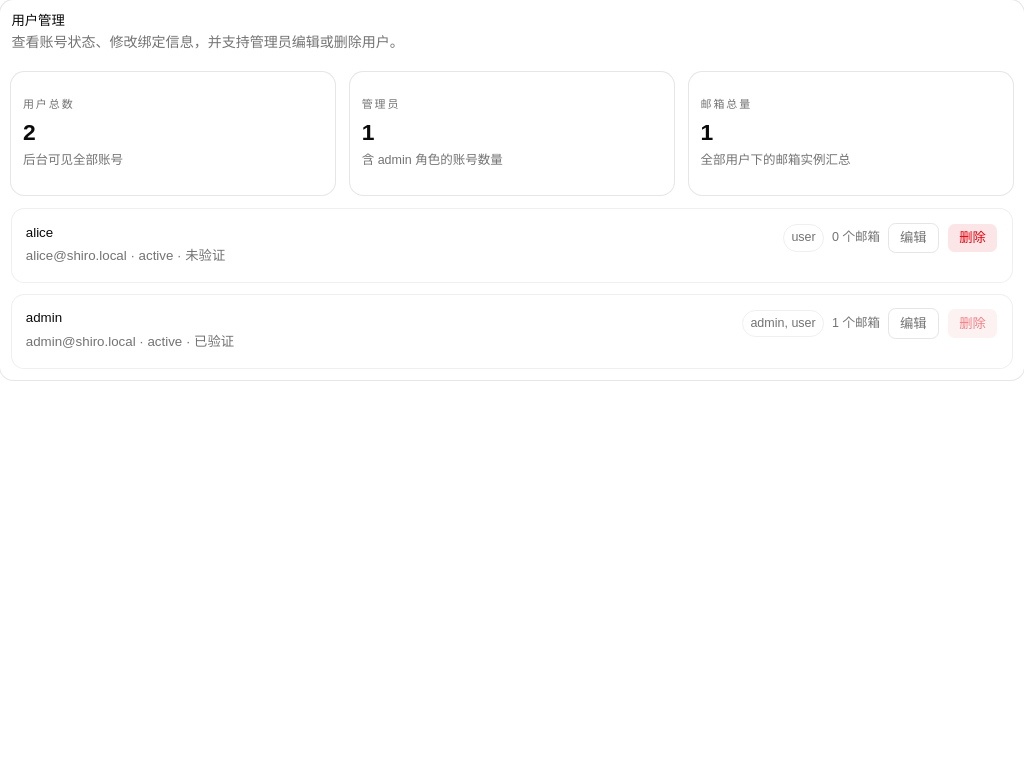
Test case: AdminUsersPage › shows delete failure feedback when backend rejects deletion
Click the button "删除" in the row of "alice@shiro.local · active · 未验证": (972, 238) top-left (947, 223), bottom-right (998, 253)
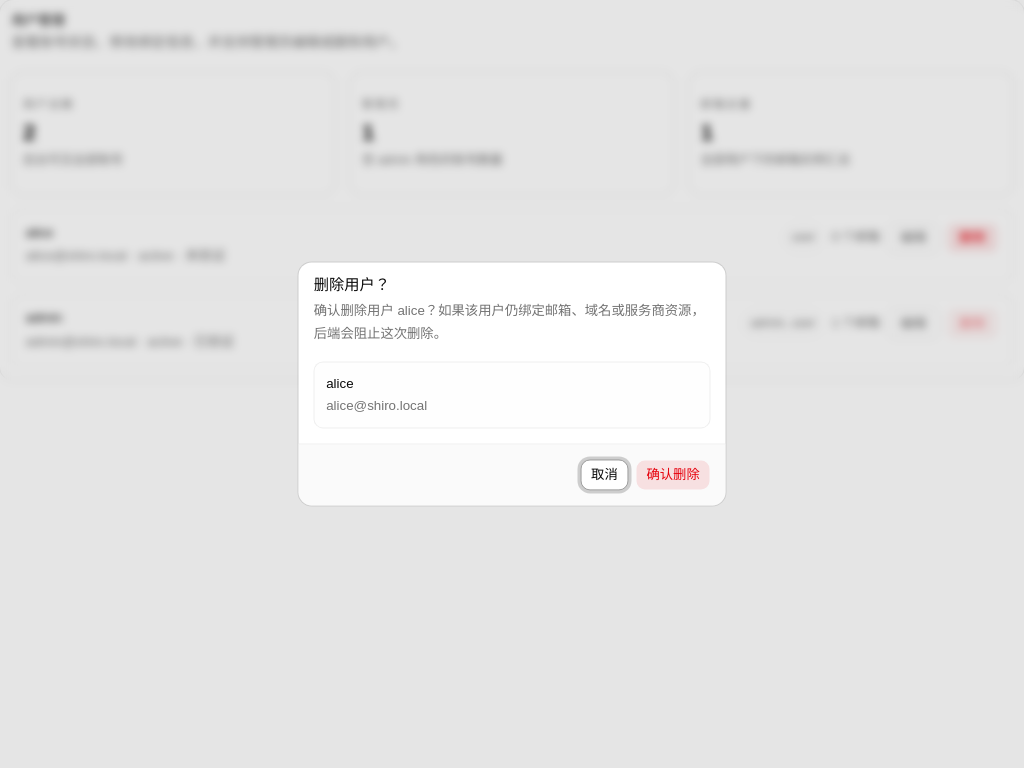
Click the button "确认删除": (673, 475) top-left (636, 460), bottom-right (710, 490)
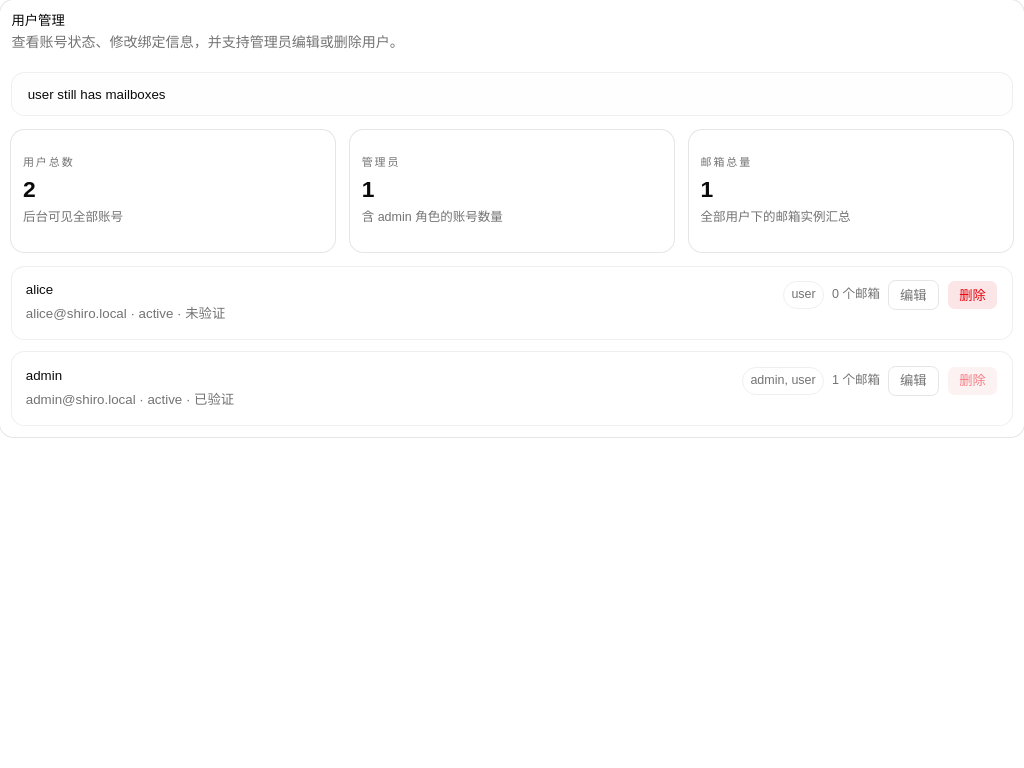
Check: the text "user still has mailboxes" is shown, box top-left (11, 72), bottom-right (1012, 116)
